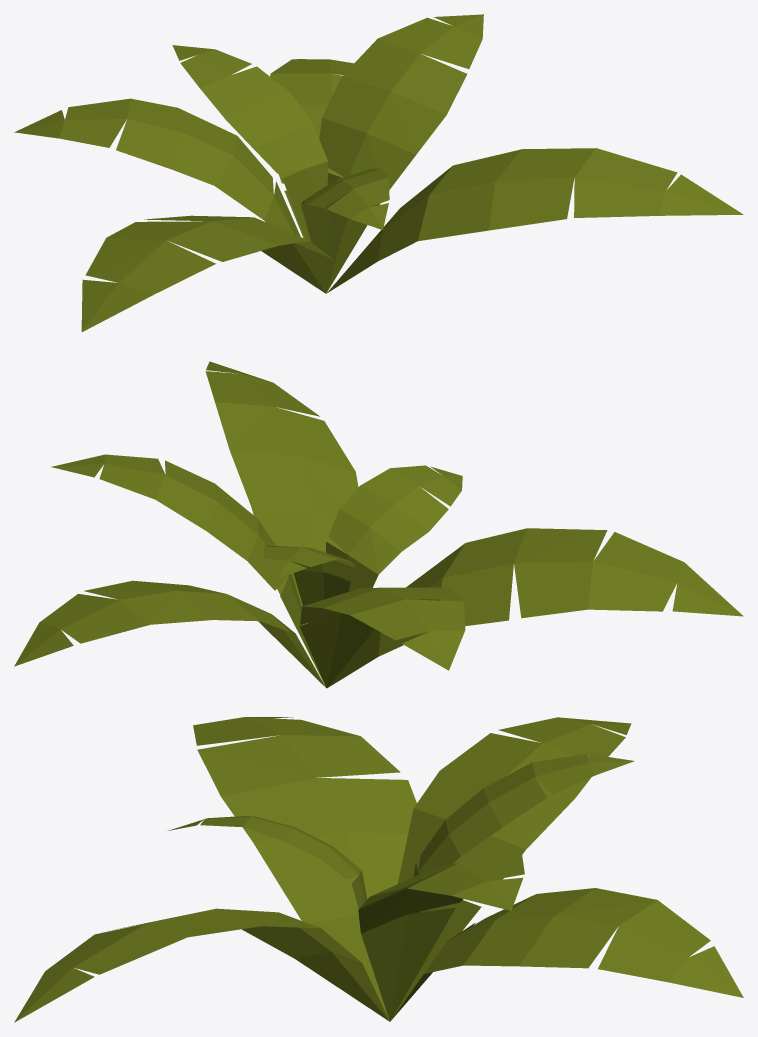
The model's file is Plant_7.fbx.
The picture shows the model from 3 angles, top to bottom: view 1: azimuth 30°, elevation 25°; view 2: azimuth 150°, elevation 25°; view 3: azimuth 270°, elevation 25°; orthographic projection. The views are drawn at different scales.
Parts seen in each view (by area): view 1: Plant_7; view 2: Plant_7; view 3: Plant_7.
Boxes of the visible parts, left/top/right/bottom form: Plant_7: left=14, top=14, right=743, bottom=331; Plant_7: left=14, top=361, right=743, bottom=688; Plant_7: left=14, top=717, right=743, bottom=1022.
Size of the model in its own units: 1.43 by 0.4659 by 1.28.
